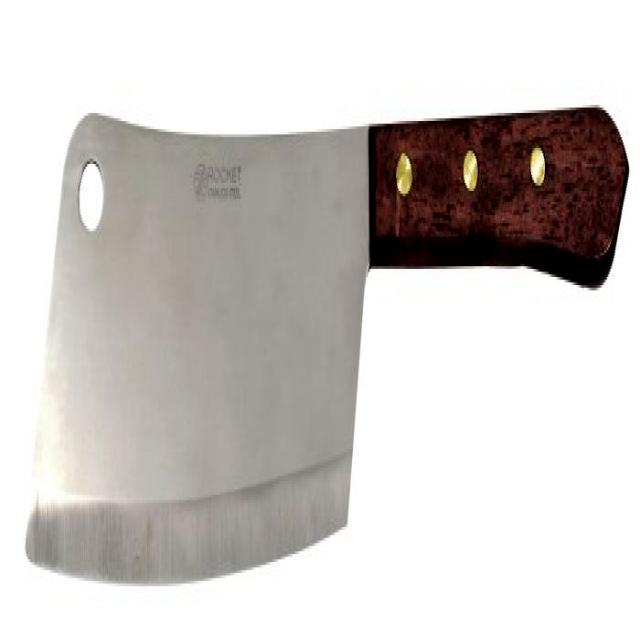knife: (26, 98, 631, 582)
